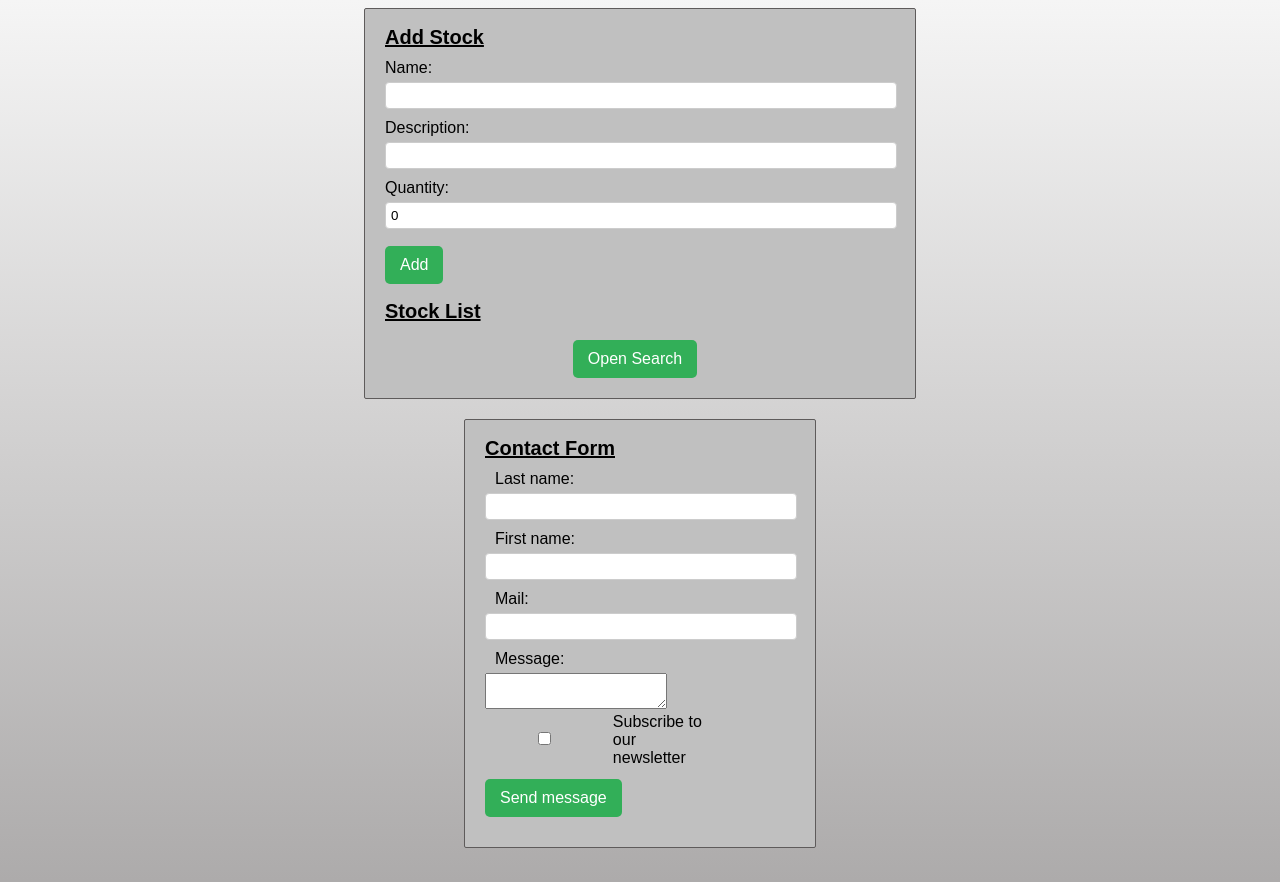
adds stock item
The image size is (1280, 882).
Note: Fill in the input fields
Step 1. Type "Item 1" into the field labelled "Name:" → (641, 95), box [385,82,897,109]
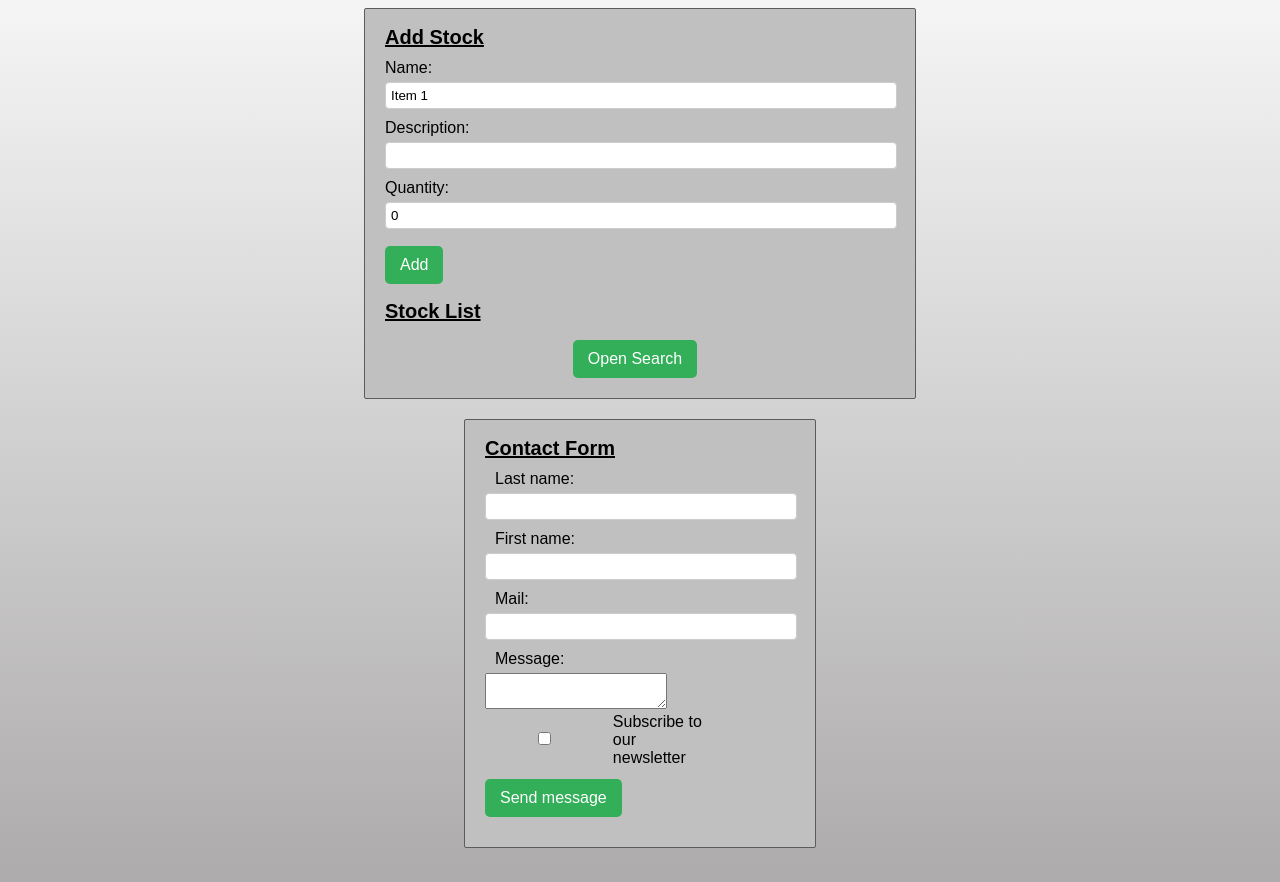
Step 2. Type "Description 1" into the field labelled "Description:" → (641, 155), box [385,142,897,169]
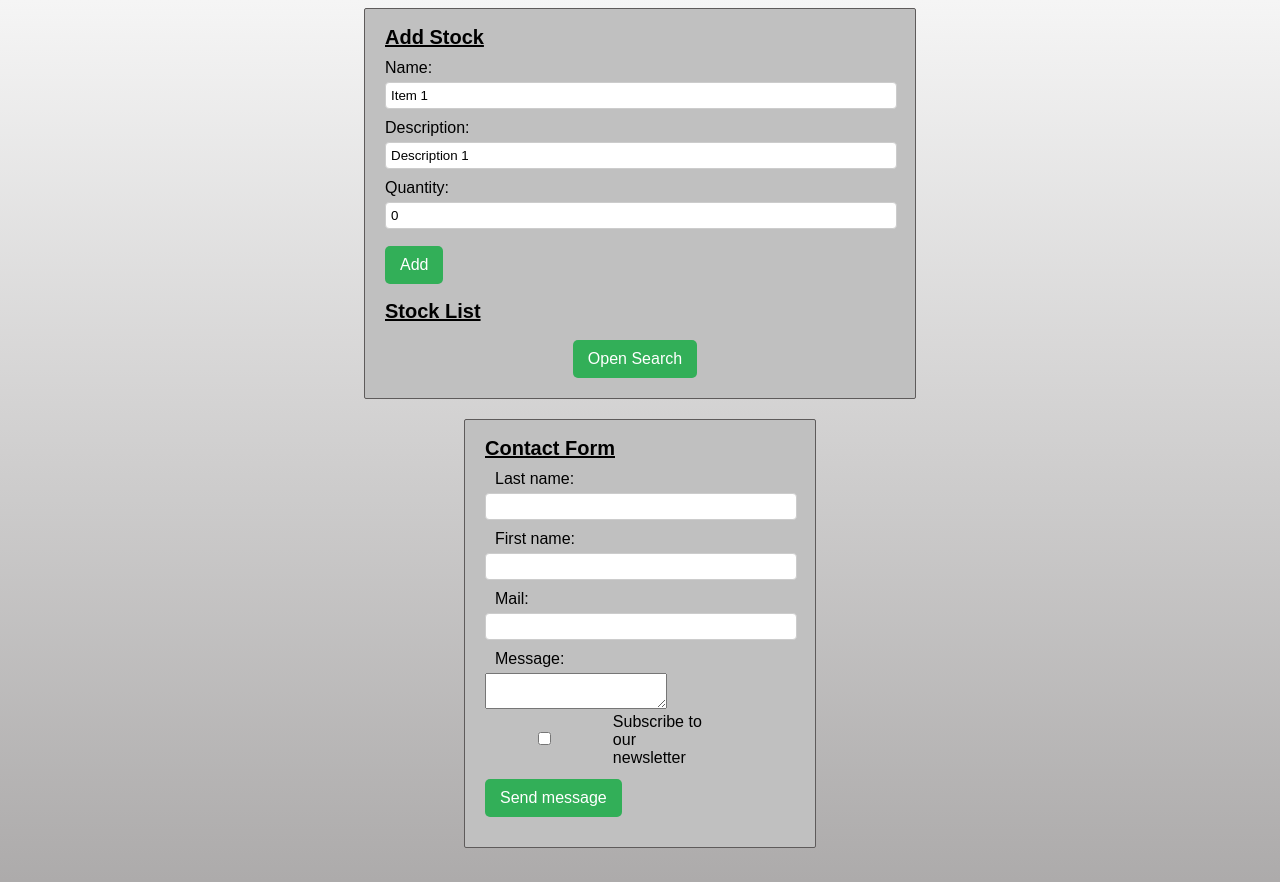
Step 3. Replace the text in the number field labelled "Quantity:" with "10" → (641, 215), box [385,202,897,229]
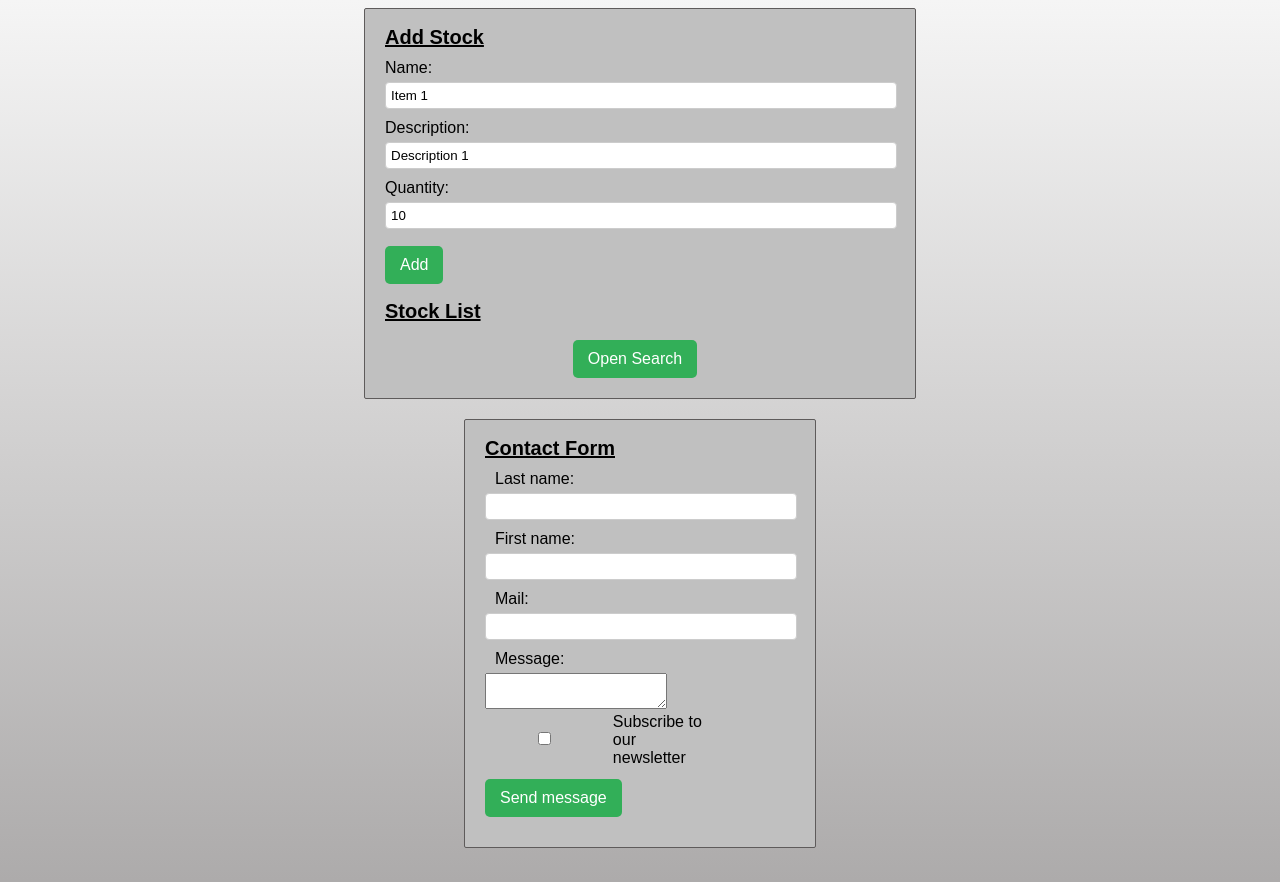
Note: Click the 'add-button'
Step 4. Click the button with test id "add-button" → (414, 265), box [385,246,444,284]
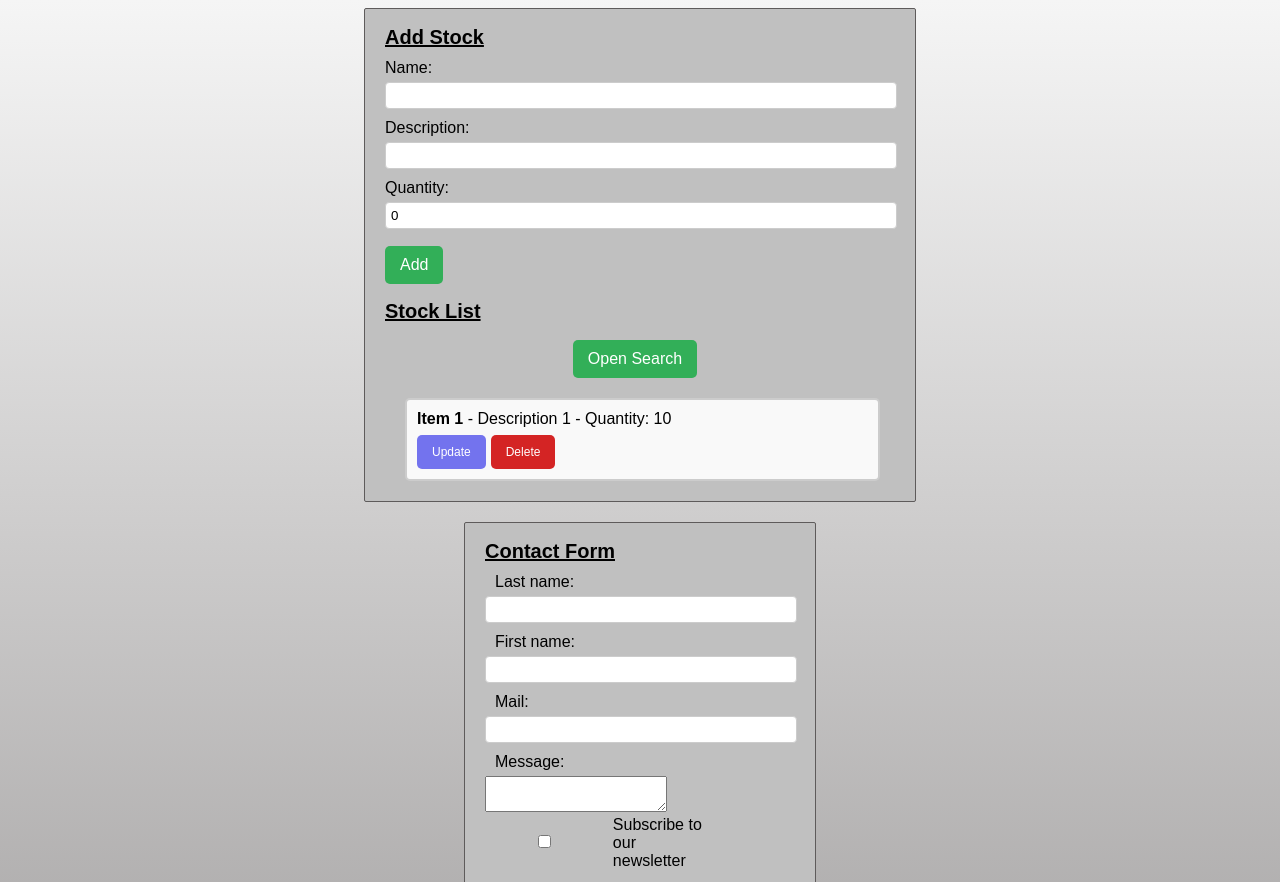
Now the field labelled "Name:" is empty, box [385,82,897,109]
Now the field labelled "Description:" is empty, box [385,142,897,169]
Now the number field labelled "Quantity:" holds "0", box [385,202,897,229]
Note: Check that the 'Delete' button removes the stock item from the stock list
Step 5. Click the button "Delete" → (523, 452), box [491,435,555,469]
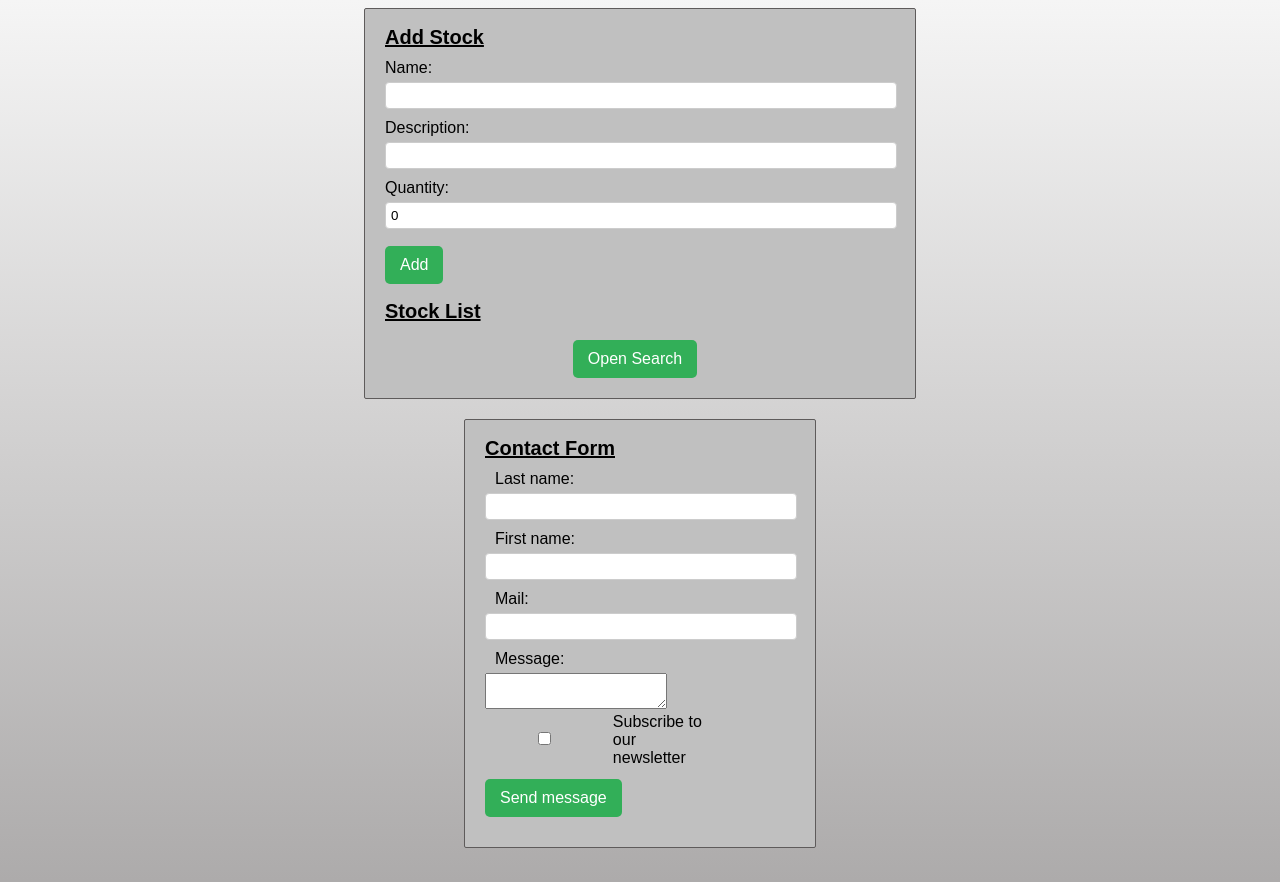
Now the text "Item 1 - Description 1 - Quantity: 10" is gone
